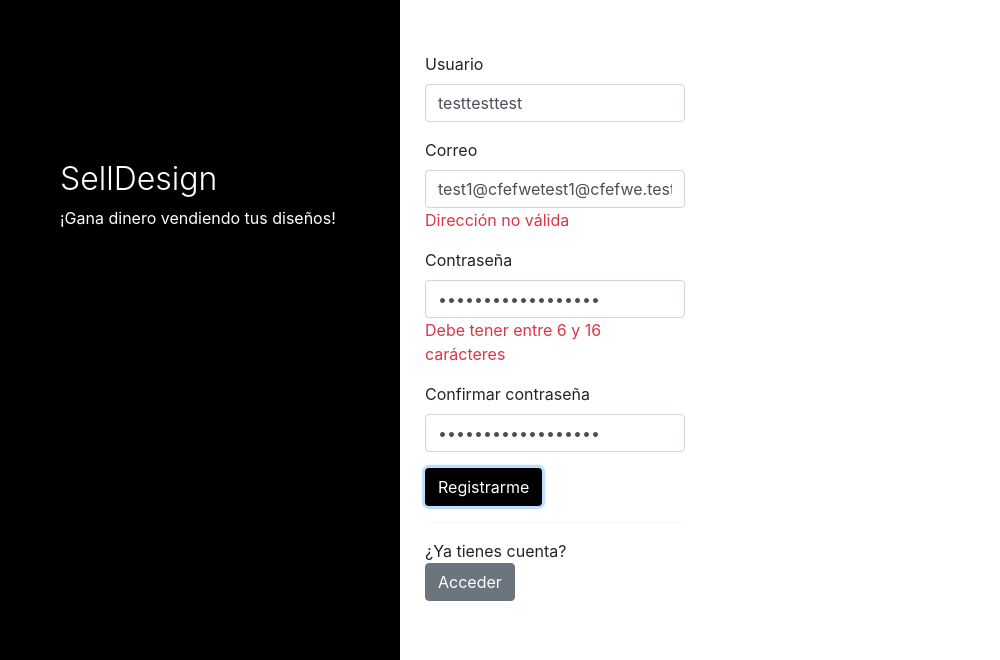
Test case: RegisterComponent › No deja Registrar password diferentes
This screenshot has width=1000, height=660.
Type "test" into the field named "username" below "Usuario" at {"x": 555, "y": 103}, box [425, 84, 685, 122]
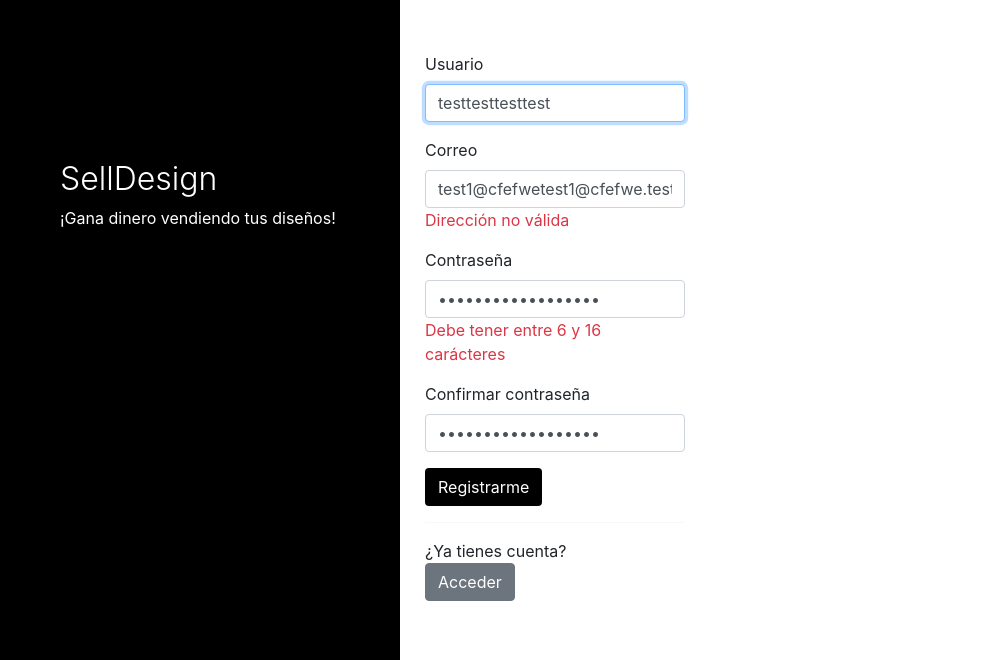
Type "miCorreo@gmail.com" into the field named "email" below "Correo" at {"x": 555, "y": 189}, box [425, 170, 685, 208]
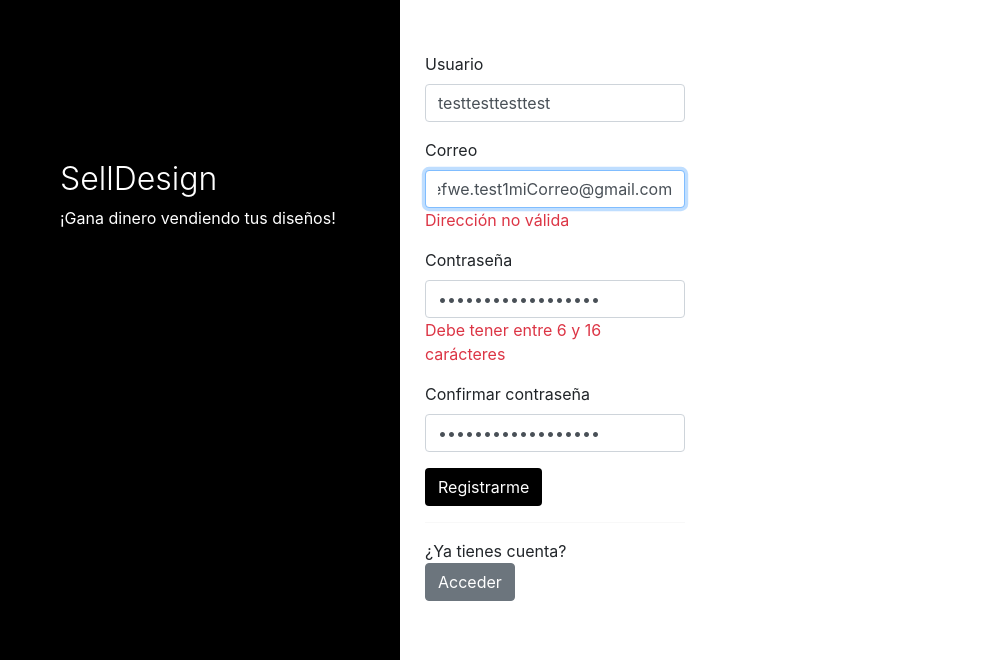
Type "Micon22" into the 1st password field named "password" at {"x": 555, "y": 299}, box [425, 280, 685, 318]
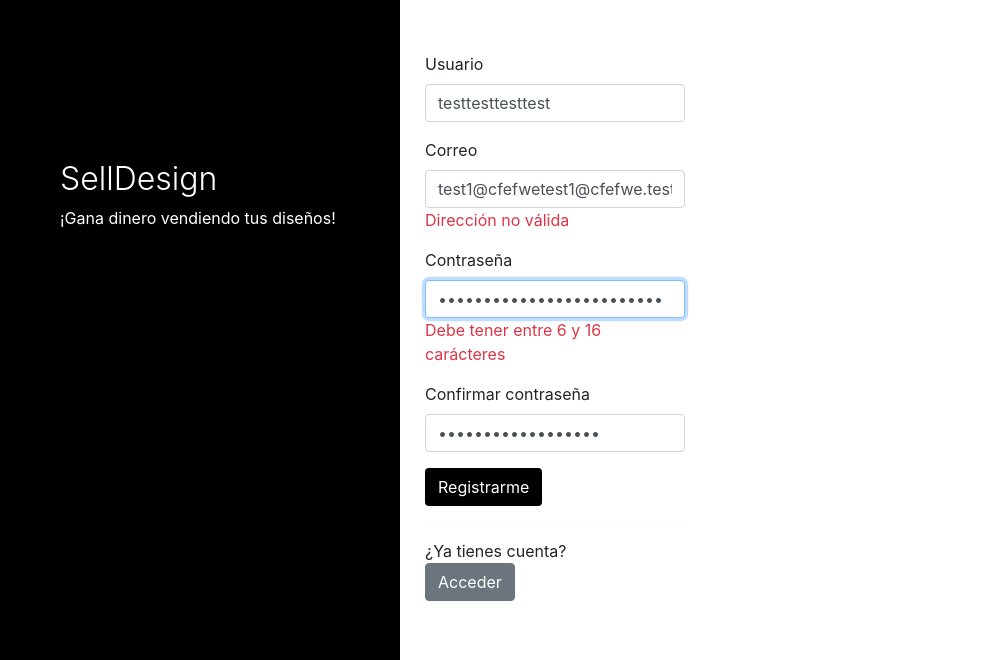
Type "Micon2" into the password field named "confirmPassword" below "Confirmar contraseña" at {"x": 555, "y": 433}, box [425, 414, 685, 452]
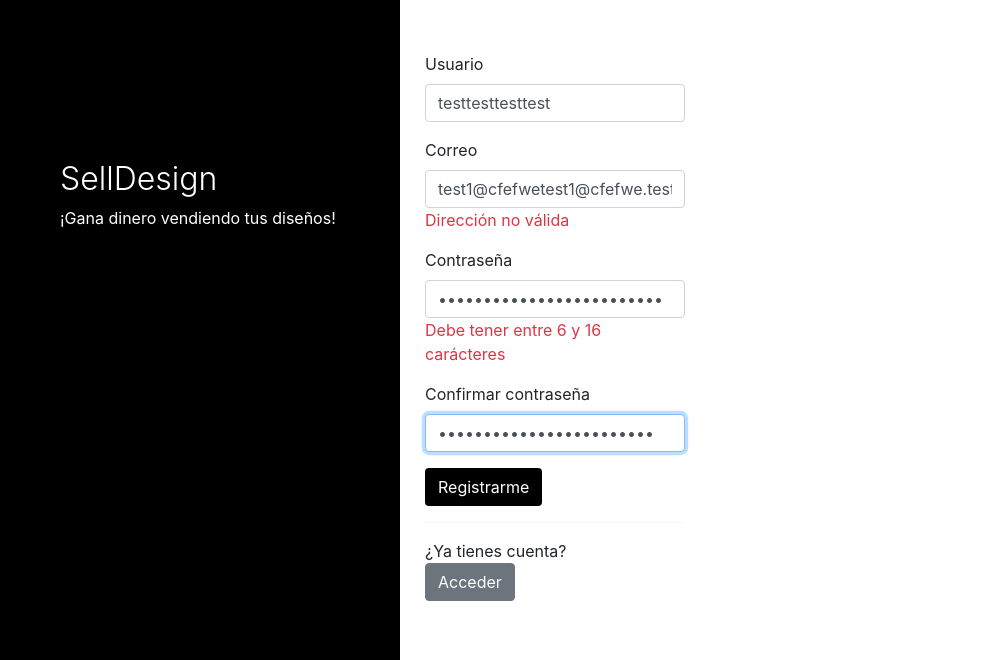
Click the button with class "btn-black" at {"x": 484, "y": 487}, box [425, 468, 542, 506]
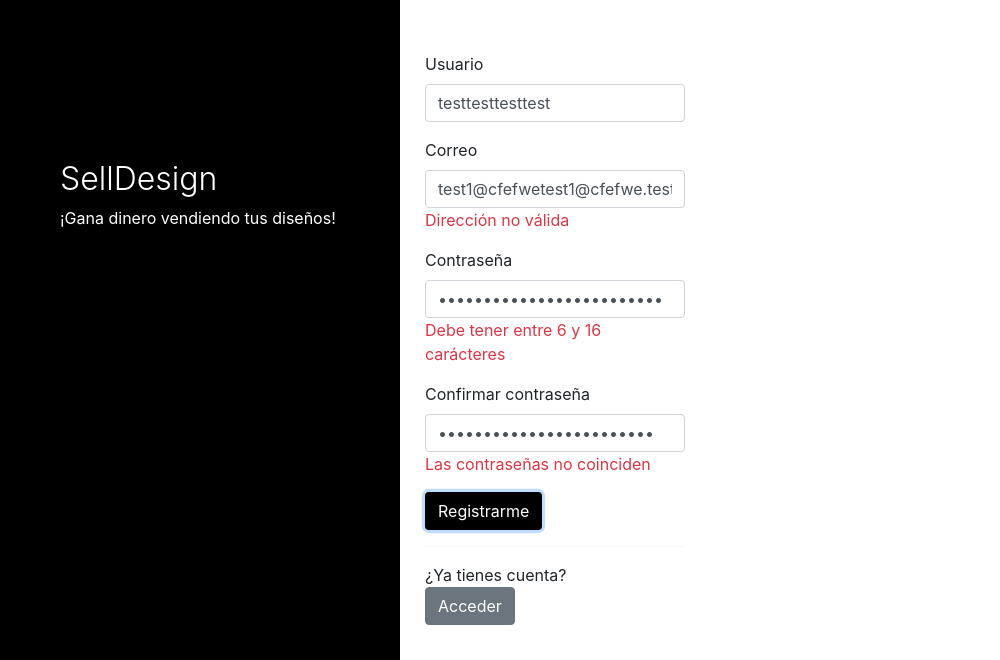
Check: the text "Las contraseñas no coinciden" is shown, box [425, 452, 685, 476]
